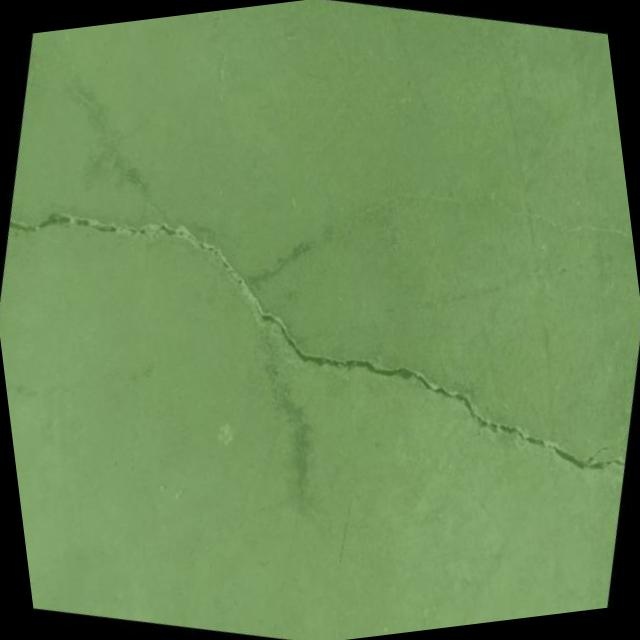crack: (0, 127, 640, 546)
